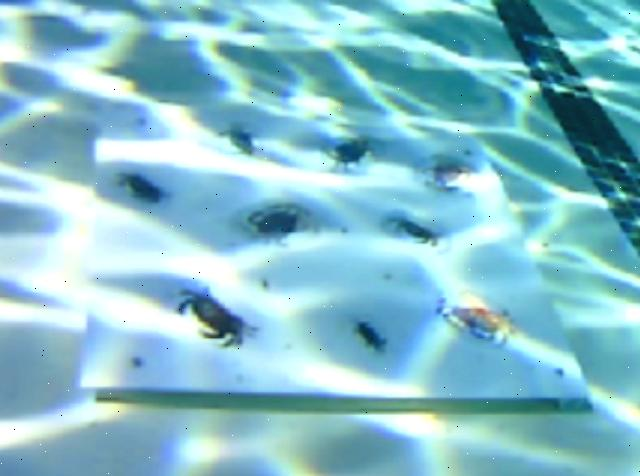crab: (175, 290, 257, 346), (437, 294, 515, 344), (244, 201, 313, 238), (424, 156, 474, 190), (115, 173, 167, 201), (326, 136, 370, 169), (391, 218, 437, 242), (221, 125, 253, 153), (355, 324, 385, 348)
